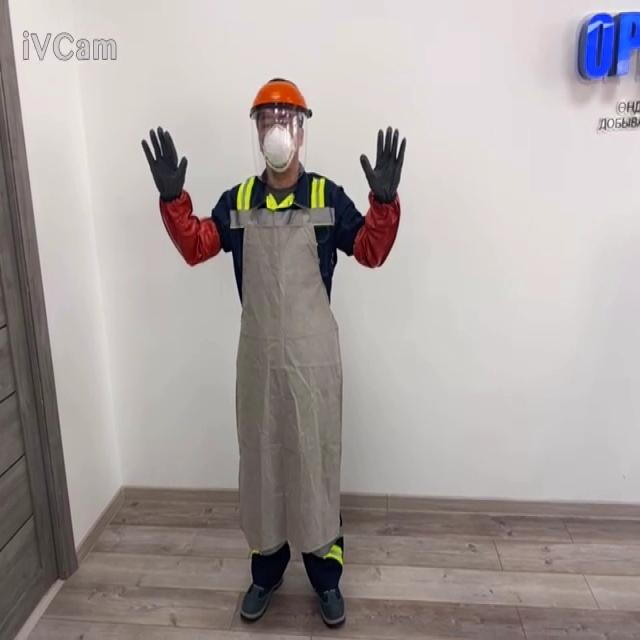Gloves: (359, 125, 406, 203), (140, 126, 187, 202)
Mask: (259, 122, 297, 174)
Protective apron: (229, 200, 343, 557)
Safety Shoes: (239, 575, 283, 620), (317, 586, 345, 626)
Sleeve: (158, 188, 221, 265), (352, 189, 400, 268)
